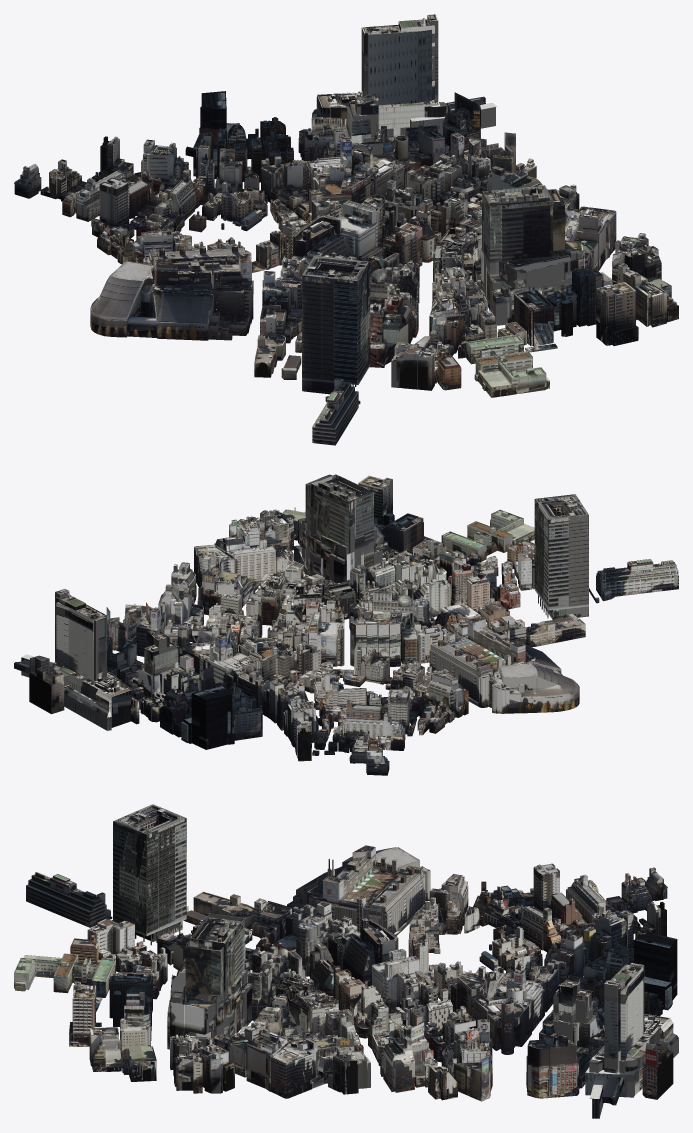
Rendered from 53393595_bldg_6697_1_op.fbx.
3 renders of one model, top to bottom at view 1: azimuth 30°, elevation 25°; view 2: azimuth 150°, elevation 25°; view 3: azimuth 270°, elevation 25°, orthographic. The views are drawn at different scales.
Parts seen in each view (by area): view 1: bldg_07f9d004-bacd-46f1-abe9-e30868385be0, bldg_ad0c16a1-1c24-44de-81ef-2cdf73694d4c, bldg_33c611dd-c4d6-4e6f-94d9-ee45d927a77e, bldg_f8e0525d-7f19-4467-9eb6-cc06ec6f1c46, bldg_2f1b5adb-81f3-445d-829e-8aac43f5da88, bldg_ec8c8f5c-ab70-42bc-86b3-061732f6d8f7, bldg_b038c4dc-e6a1-44d4-b66d-942a39ba07ca, bldg_cee1c27a-0ceb-4c9e-bbcb-3412a90b94e9, bldg_595ab260-4783-43cd-9c41-0c258fd5c80d, bldg_1fbbf768-c53a-499c-a73c-9827ea8b3311, bldg_75136a21-e33c-4520-8ec2-1d6decf41b87, bldg_1ce34640-7ac2-4250-9585-d6560de4ac25 (+33 smaller); view 2: bldg_07f9d004-bacd-46f1-abe9-e30868385be0, bldg_33c611dd-c4d6-4e6f-94d9-ee45d927a77e, bldg_ad0c16a1-1c24-44de-81ef-2cdf73694d4c, bldg_f8e0525d-7f19-4467-9eb6-cc06ec6f1c46, bldg_595ab260-4783-43cd-9c41-0c258fd5c80d, bldg_b6495acf-81c7-487c-b27b-a027275122d4, bldg_2f1b5adb-81f3-445d-829e-8aac43f5da88, bldg_b038c4dc-e6a1-44d4-b66d-942a39ba07ca, bldg_31b43eac-99ba-4469-9943-b32d2c9aa674, bldg_53e8eaf3-531e-4388-8c86-fb99f98b4c12, bldg_0bf18570-ea52-4ea0-87d3-fba0966f463a, bldg_62555a39-6050-44aa-b244-d09cf2559f1f (+40 smaller); view 3: bldg_f8e0525d-7f19-4467-9eb6-cc06ec6f1c46, bldg_ad0c16a1-1c24-44de-81ef-2cdf73694d4c, bldg_07f9d004-bacd-46f1-abe9-e30868385be0, bldg_33c611dd-c4d6-4e6f-94d9-ee45d927a77e, bldg_595ab260-4783-43cd-9c41-0c258fd5c80d, bldg_2f1b5adb-81f3-445d-829e-8aac43f5da88, bldg_b038c4dc-e6a1-44d4-b66d-942a39ba07ca, bldg_bda42c99-ebdc-4470-84b6-e0d5e8c28733, bldg_cee1c27a-0ceb-4c9e-bbcb-3412a90b94e9, bldg_b6495acf-81c7-487c-b27b-a027275122d4, bldg_53e8eaf3-531e-4388-8c86-fb99f98b4c12, bldg_ff159163-cd28-4819-967f-ab0452d4f886 (+49 smaller).
Boxes of the visible parts, <box> form: bldg_07f9d004-bacd-46f1-abe9-e30868385be0: <box>90,244,253,340</box>; bldg_ad0c16a1-1c24-44de-81ef-2cdf73694d4c: <box>481,185,584,325</box>; bldg_33c611dd-c4d6-4e6f-94d9-ee45d927a77e: <box>311,14,496,138</box>; bldg_f8e0525d-7f19-4467-9eb6-cc06ec6f1c46: <box>302,255,370,394</box>; bldg_2f1b5adb-81f3-445d-829e-8aac43f5da88: <box>466,334,549,397</box>; bldg_ec8c8f5c-ab70-42bc-86b3-061732f6d8f7: <box>596,282,638,345</box>; bldg_b038c4dc-e6a1-44d4-b66d-942a39ba07ca: <box>312,378,358,445</box>; bldg_cee1c27a-0ceb-4c9e-bbcb-3412a90b94e9: <box>352,135,409,199</box>; bldg_595ab260-4783-43cd-9c41-0c258fd5c80d: <box>564,202,616,271</box>; bldg_1fbbf768-c53a-499c-a73c-9827ea8b3311: <box>339,200,382,260</box>; bldg_75136a21-e33c-4520-8ec2-1d6decf41b87: <box>514,289,553,346</box>; bldg_1ce34640-7ac2-4250-9585-d6560de4ac25: <box>429,270,487,336</box>; bldg_07f9d004-bacd-46f1-abe9-e30868385be0: <box>426,615,579,713</box>; bldg_33c611dd-c4d6-4e6f-94d9-ee45d927a77e: <box>14,588,139,730</box>; bldg_ad0c16a1-1c24-44de-81ef-2cdf73694d4c: <box>294,474,397,583</box>; bldg_f8e0525d-7f19-4467-9eb6-cc06ec6f1c46: <box>534,494,588,619</box>; bldg_595ab260-4783-43cd-9c41-0c258fd5c80d: <box>194,528,255,607</box>; bldg_b6495acf-81c7-487c-b27b-a027275122d4: <box>181,685,234,749</box>; bldg_2f1b5adb-81f3-445d-829e-8aac43f5da88: <box>441,509,534,562</box>; bldg_b038c4dc-e6a1-44d4-b66d-942a39ba07ca: <box>596,559,678,601</box>; bldg_31b43eac-99ba-4469-9943-b32d2c9aa674: <box>350,614,401,666</box>; bldg_53e8eaf3-531e-4388-8c86-fb99f98b4c12: <box>138,628,179,699</box>; bldg_0bf18570-ea52-4ea0-87d3-fba0966f463a: <box>207,635,262,688</box>; bldg_62555a39-6050-44aa-b244-d09cf2559f1f: <box>29,655,64,714</box>; bldg_f8e0525d-7f19-4467-9eb6-cc06ec6f1c46: <box>113,804,186,945</box>; bldg_ad0c16a1-1c24-44de-81ef-2cdf73694d4c: <box>167,913,251,1049</box>; bldg_07f9d004-bacd-46f1-abe9-e30868385be0: <box>287,845,430,935</box>; bldg_33c611dd-c4d6-4e6f-94d9-ee45d927a77e: <box>585,963,678,1118</box>; bldg_595ab260-4783-43cd-9c41-0c258fd5c80d: <box>246,1024,354,1098</box>; bldg_2f1b5adb-81f3-445d-829e-8aac43f5da88: <box>14,953,115,997</box>; bldg_b038c4dc-e6a1-44d4-b66d-942a39ba07ca: <box>26,872,112,927</box>; bldg_bda42c99-ebdc-4470-84b6-e0d5e8c28733: <box>526,1040,579,1098</box>; bldg_cee1c27a-0ceb-4c9e-bbcb-3412a90b94e9: <box>474,971,531,1054</box>; bldg_b6495acf-81c7-487c-b27b-a027275122d4: <box>632,931,677,1010</box>; bldg_53e8eaf3-531e-4388-8c86-fb99f98b4c12: <box>544,979,598,1051</box>; bldg_ff159163-cd28-4819-967f-ab0452d4f886: <box>383,1022,428,1092</box>.
Bounding box in the file's own units: 519 × 115 × 593.
